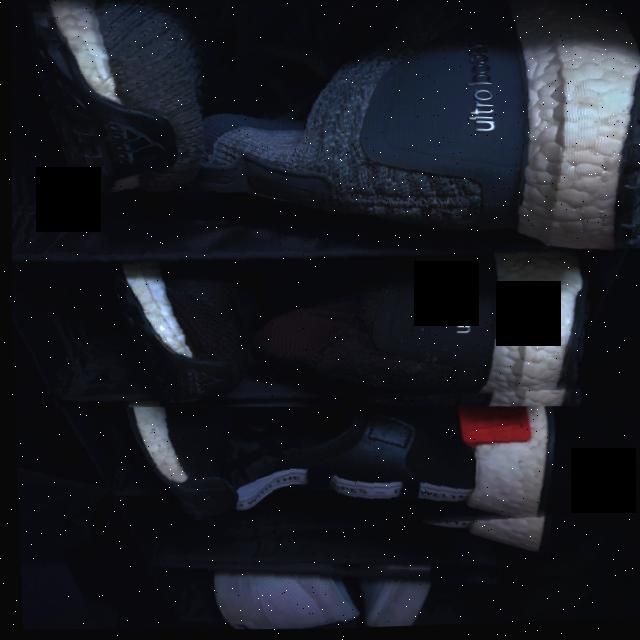shoe: (2, 0, 640, 290), (7, 230, 640, 437), (12, 387, 640, 571), (53, 537, 640, 639)
